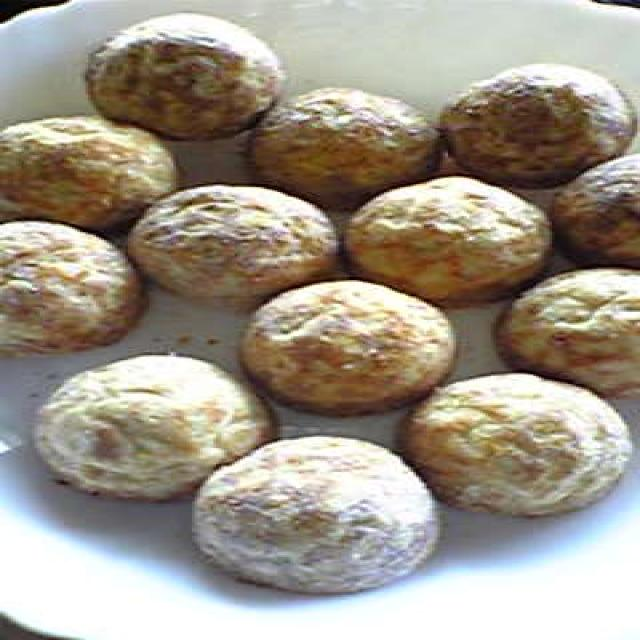炸货点心: (0, 0, 640, 610)
